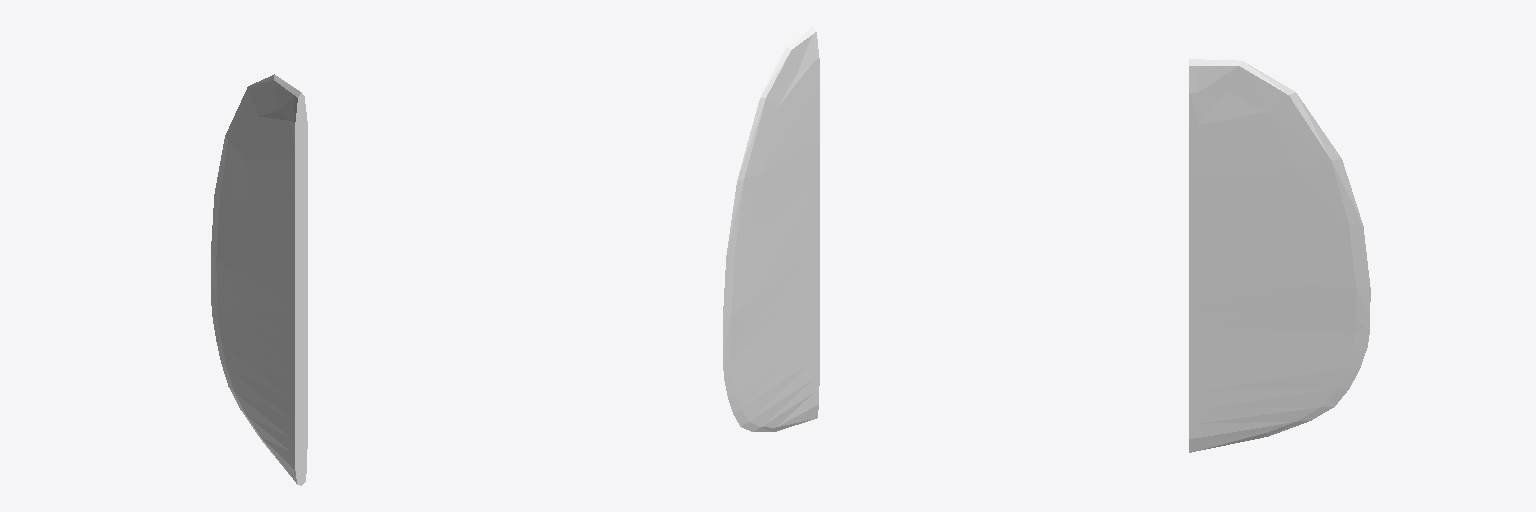
File: paletteSXDX.obj
3 views of the same model, side by side, from view 1: azimuth 30°, elevation 25°; view 2: azimuth 150°, elevation 25°; view 3: azimuth 270°, elevation 25° (orthographic).
Visible parts, largest first — view 1: Rudder; view 2: Rudder; view 3: Rudder.
Part boxes in pixels (x1,y1,x2,y2): Rudder: (211,74,307,485); Rudder: (723,26,819,431); Rudder: (1189,59,1370,452).
Bounding box in the file's own units: 0.042 × 1.22 × 0.5114.